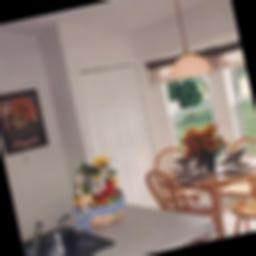Lavaplatos: (23, 207, 120, 256)
Puerta: (77, 60, 164, 209)
